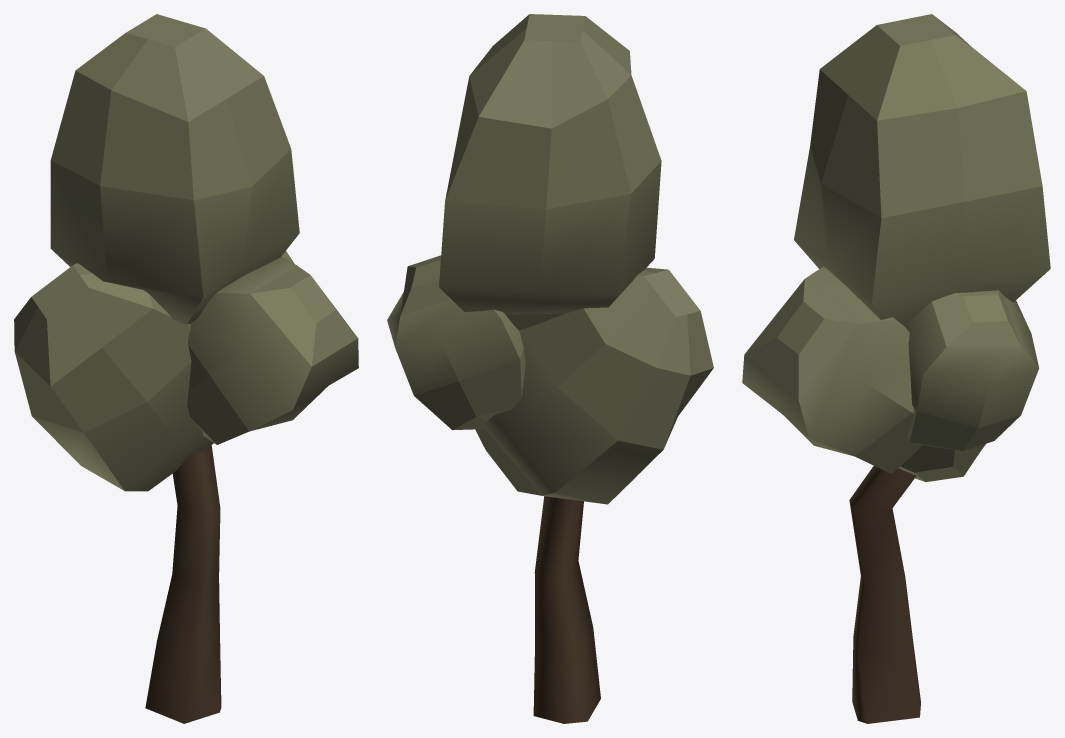
The model's file is Tree5.fbx.
The picture shows the model from 3 angles, left to right: view 1: azimuth 30°, elevation 25°; view 2: azimuth 150°, elevation 25°; view 3: azimuth 270°, elevation 25°; orthographic projection. The views are drawn at different scales.
Visible parts, largest first — view 1: Tree5; view 2: Tree5; view 3: Tree5.
Boxes of the visible parts, x1,y1,x2,y2 form: Tree5: [14, 14, 358, 723]; Tree5: [387, 14, 713, 723]; Tree5: [742, 14, 1050, 723].
Bounding box in the file's own units: 4.03 × 9.13 × 3.76.
